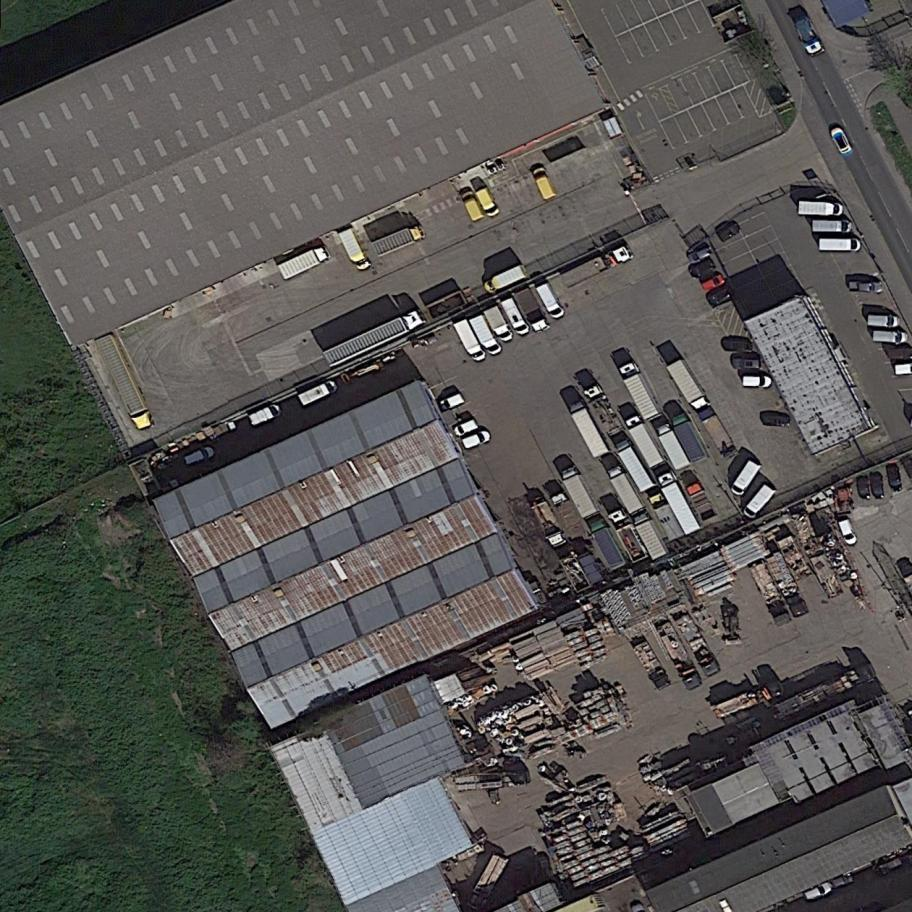large-vehicle: (767, 659, 880, 728), (320, 304, 431, 373), (93, 330, 157, 436), (558, 241, 636, 292), (654, 618, 704, 694), (654, 467, 706, 540), (709, 677, 787, 724), (672, 609, 723, 680), (617, 358, 666, 427), (748, 557, 794, 630), (765, 549, 811, 620), (565, 396, 613, 463), (663, 355, 714, 418), (622, 411, 670, 474), (580, 379, 629, 440), (557, 461, 603, 524), (605, 505, 651, 568), (612, 435, 659, 496), (696, 403, 741, 463), (586, 514, 630, 575), (604, 459, 648, 519), (276, 241, 335, 285), (527, 494, 570, 554), (631, 637, 675, 695), (645, 489, 688, 547), (669, 409, 711, 467), (369, 220, 428, 261), (548, 488, 590, 545), (630, 508, 672, 564), (652, 419, 693, 474), (512, 284, 554, 337), (337, 224, 377, 277), (479, 262, 532, 300), (452, 316, 491, 367), (452, 768, 530, 793), (468, 311, 506, 360), (791, 11, 827, 60), (498, 294, 533, 342), (740, 480, 779, 523), (684, 478, 720, 524), (482, 302, 518, 348), (728, 457, 764, 501), (534, 280, 569, 325), (296, 377, 341, 410), (245, 401, 285, 431), (531, 163, 560, 203), (459, 187, 488, 225), (720, 603, 744, 648), (474, 184, 503, 220), (797, 199, 846, 220)
small-vehicle: (828, 123, 856, 160), (801, 879, 837, 906), (182, 444, 218, 470), (461, 428, 494, 453), (818, 237, 861, 256), (837, 516, 861, 550), (688, 257, 718, 281), (453, 416, 481, 441), (438, 391, 467, 415), (715, 222, 745, 245), (706, 287, 735, 310), (885, 462, 905, 495), (871, 330, 909, 347), (685, 245, 715, 266), (866, 313, 902, 330), (699, 272, 727, 293), (722, 338, 756, 355), (848, 279, 884, 295), (742, 374, 777, 390), (812, 220, 852, 234), (760, 413, 793, 429), (730, 357, 764, 372), (870, 471, 887, 501), (856, 474, 872, 500), (831, 873, 855, 890)
